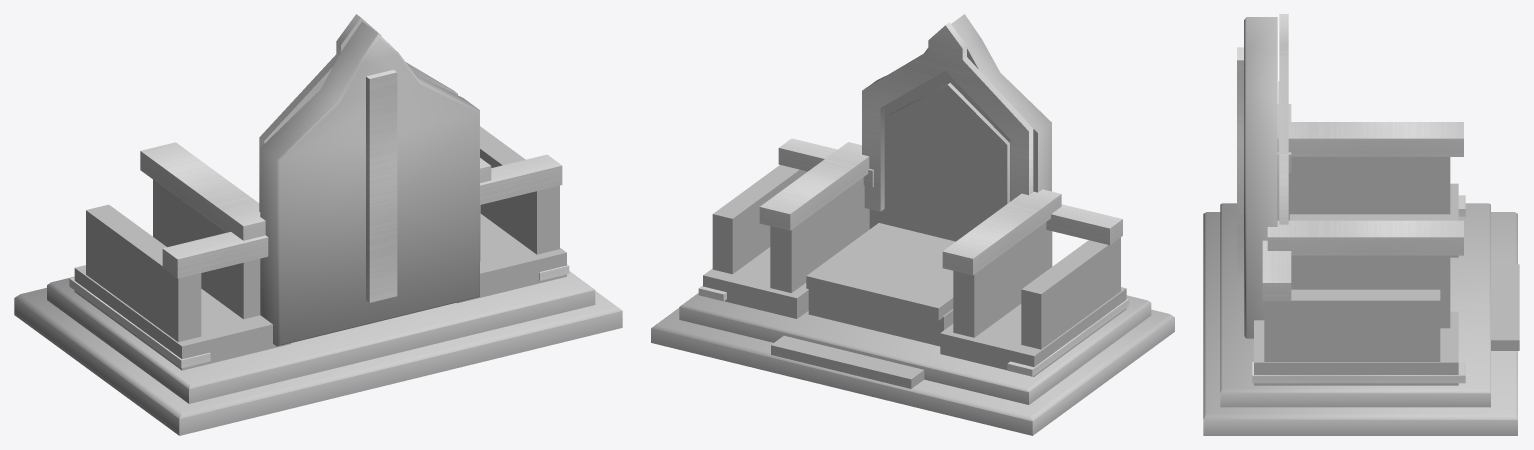
Rendered from grand_throne.obj.
3 views of the same model, side by side, from view 1: azimuth 30°, elevation 25°; view 2: azimuth 150°, elevation 25°; view 3: azimuth 270°, elevation 25° (orthographic). The views are drawn at different scales.
Visible parts, largest first — view 1: source_component_005, source_component_000, source_component_001, source_component_011, source_component_020, source_component_008, source_component_010, source_component_009, source_component_017, source_component_014, source_component_012, source_component_018 (+2 smaller); view 2: source_component_000, source_component_006, source_component_001, source_component_004, source_component_007, source_component_011, source_component_005, source_component_009, source_component_015, source_component_008, source_component_017, source_component_010 (+7 smaller); view 3: source_component_001, source_component_000, source_component_017, source_component_009, source_component_005, source_component_016, source_component_010, source_component_015, source_component_014, source_component_002, source_component_007, source_component_019 (+4 smaller).
Part boxes in pixels (<box>): source_component_005: <box>260,21,479,346</box>; source_component_000: <box>14,287,622,435</box>; source_component_001: <box>47,271,595,403</box>; source_component_011: <box>86,204,201,341</box>; source_component_020: <box>366,70,397,302</box>; source_component_008: <box>74,265,291,370</box>; source_component_010: <box>140,142,265,240</box>; source_component_009: <box>153,179,260,319</box>; source_component_017: <box>480,126,559,254</box>; source_component_014: <box>457,214,566,303</box>; source_component_012: <box>162,232,268,278</box>; source_component_018: <box>480,154,562,204</box>; source_component_000: <box>651,308,1174,435</box>; source_component_006: <box>888,83,1009,233</box>; source_component_001: <box>679,293,1151,404</box>; source_component_004: <box>806,223,955,320</box>; source_component_007: <box>862,22,1033,211</box>; source_component_011: <box>1021,237,1120,349</box>; source_component_005: <box>869,14,1051,241</box>; source_component_009: <box>953,222,1052,337</box>; source_component_015: <box>770,177,869,292</box>; source_component_008: <box>940,287,1126,376</box>; source_component_017: <box>712,165,807,274</box>; source_component_010: <box>942,189,1061,275</box>; source_component_001: <box>1220,203,1490,407</box>; source_component_000: <box>1203,212,1517,435</box>; source_component_017: <box>1264,289,1440,361</box>; source_component_009: <box>1277,157,1450,220</box>; source_component_005: <box>1244,17,1277,338</box>; source_component_016: <box>1267,220,1463,255</box>; source_component_010: <box>1277,122,1463,156</box>; source_component_015: <box>1291,255,1450,328</box>; source_component_014: <box>1254,311,1458,385</box>; source_component_002: <box>1491,264,1519,350</box>; source_component_007: <box>1279,14,1288,224</box>; source_component_019: <box>1252,362,1465,383</box>.
Bounding box in the file's own units: 2.88 × 2.08 × 1.87.
